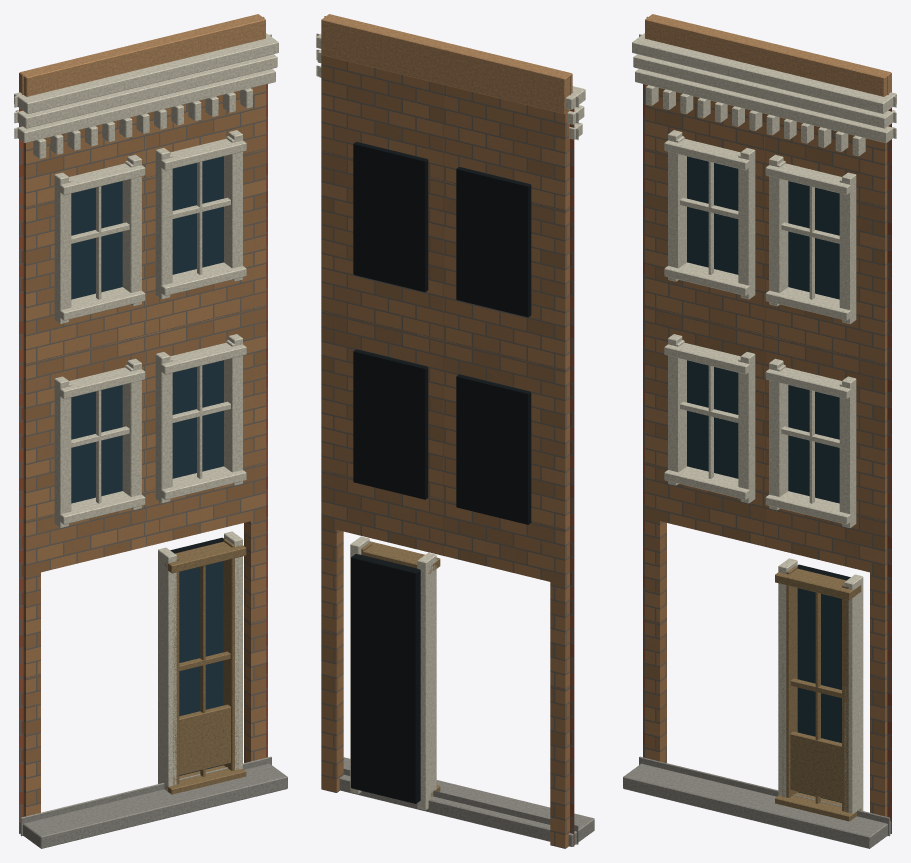
Rendered from VICT31_lod1.glb.
3 views of the same model, side by side, from view 1: azimuth 30°, elevation 25°; view 2: azimuth 150°, elevation 25°; view 3: azimuth 330°, elevation 25° (orthographic).
Parts seen in each view (by area): view 1: VICT31_FRONT_LOD1; view 2: VICT31_FRONT_LOD1; view 3: VICT31_FRONT_LOD1.
Boxes of the visible parts, x1,y1,x2,y2 form: VICT31_FRONT_LOD1: [14, 14, 287, 848]; VICT31_FRONT_LOD1: [316, 14, 594, 848]; VICT31_FRONT_LOD1: [623, 14, 896, 848].
Bounding box in the file's own units: 3.44 × 9.66 × 0.68.
9 materials, 7 textured.
